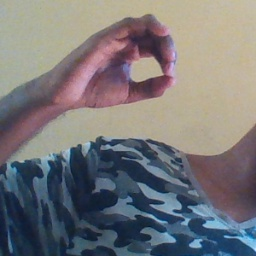O: (62, 7, 181, 114)
